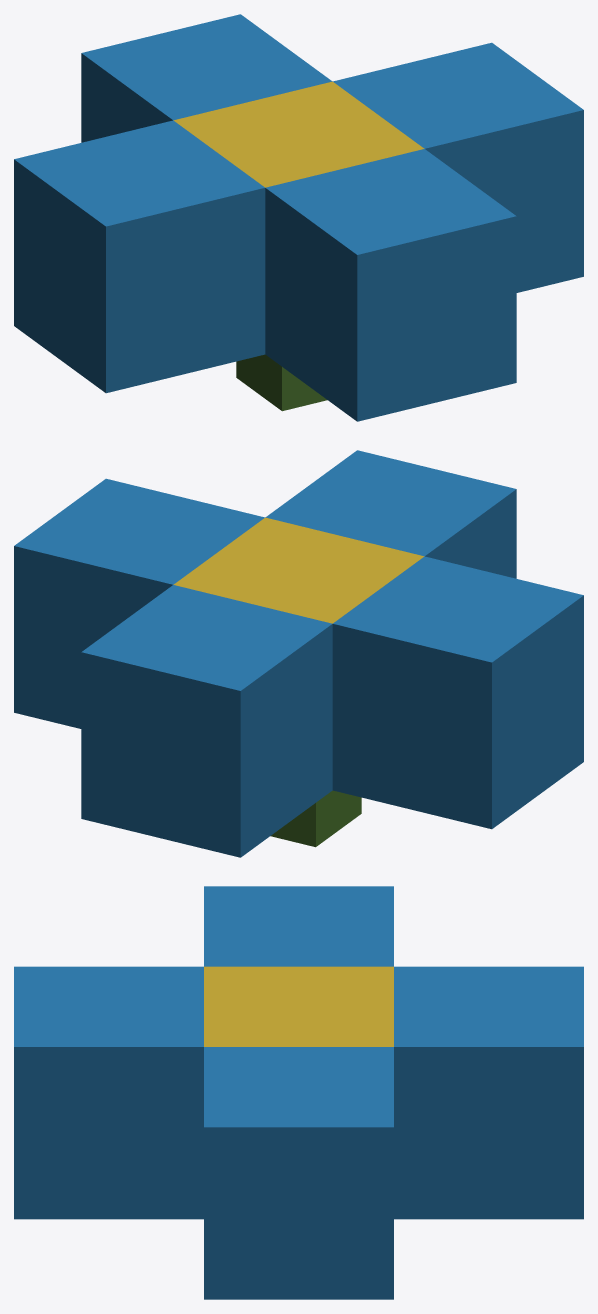
Rendered from flower_blue_1.glb.
3 renders of one model, top to bottom at view 1: azimuth 30°, elevation 25°; view 2: azimuth 150°, elevation 25°; view 3: azimuth 270°, elevation 25°, orthographic. The views are drawn at different scales.
Parts seen in each view (by area): view 1: Flower_blue_1; view 2: Flower_blue_1; view 3: Flower_blue_1.
Boxes of the visible parts, x1,y1,x2,y2 form: Flower_blue_1: [14, 14, 583, 421]; Flower_blue_1: [14, 450, 583, 857]; Flower_blue_1: [14, 886, 583, 1299].
Size of the model in its own units: 0.48 by 0.24 by 0.48.
